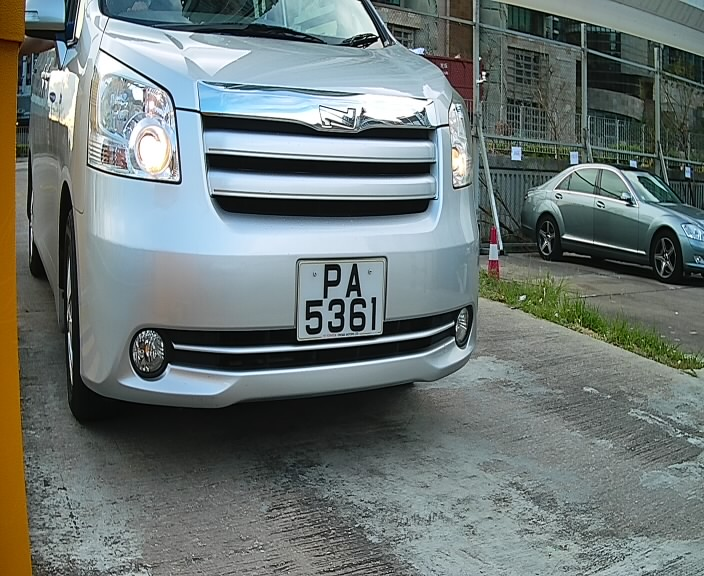License Plate: (288, 249, 399, 353)
